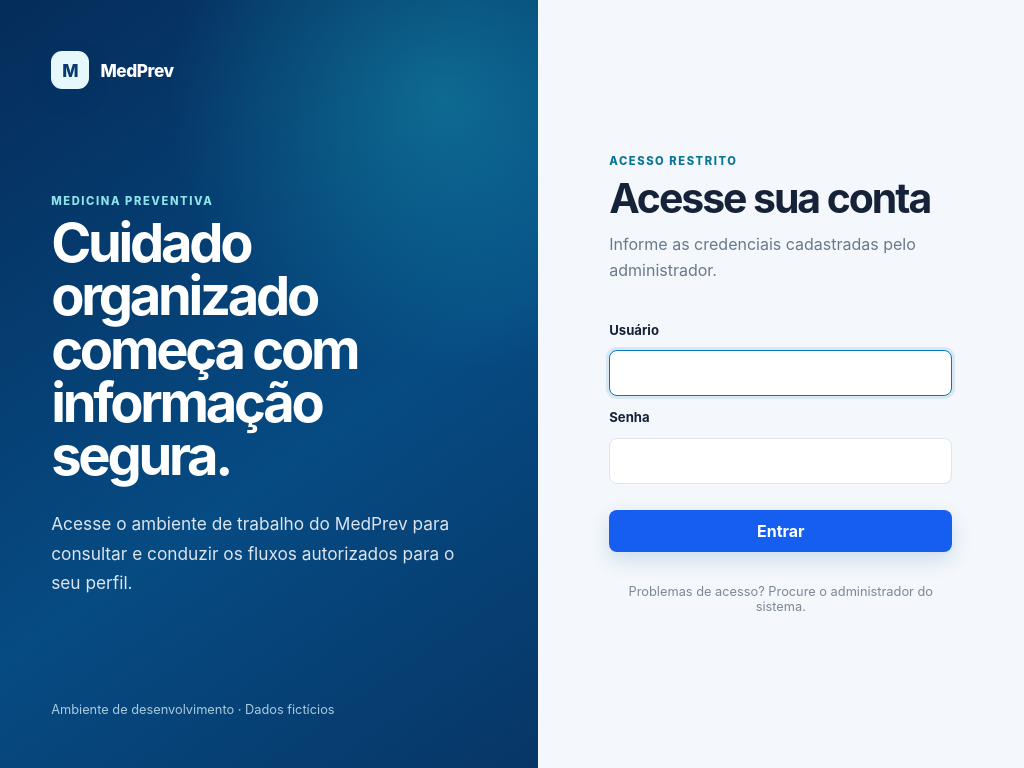
Scenario: App › informa quando as credenciais são inválidas
This screenshot has width=1024, height=768.
Type "incorreto" into the field labelled "Usuário" at (781, 374), box [609,350,952,396]
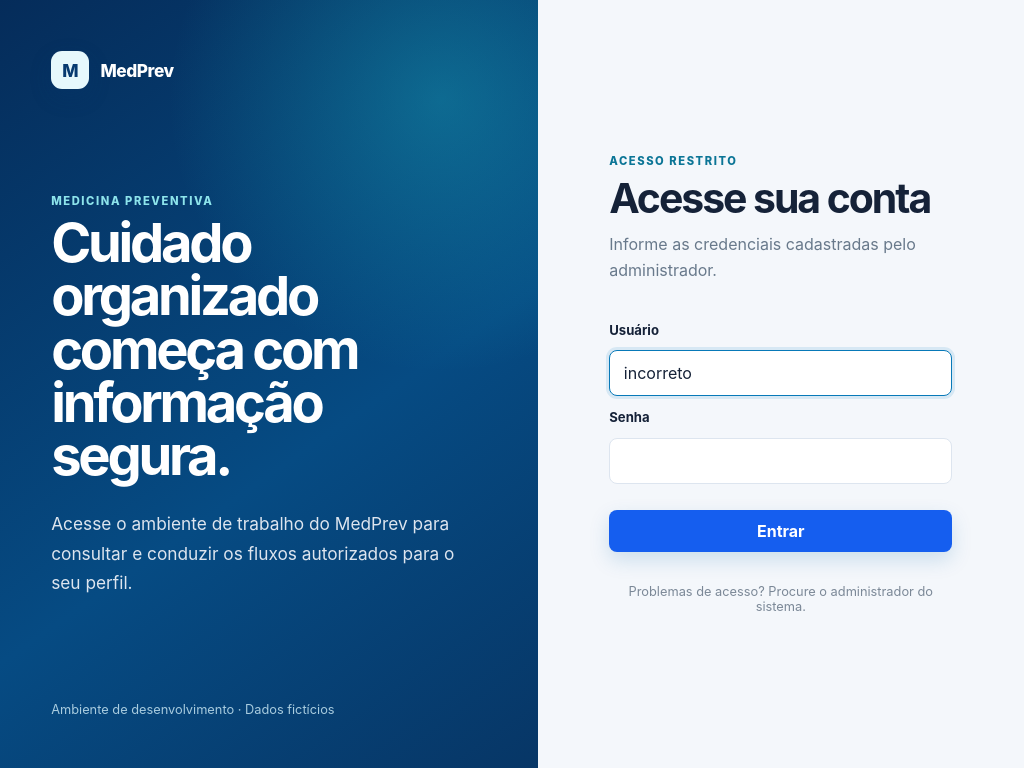
Type "incorreta" into the password field labelled "Senha" at (781, 461), box [609,438,952,484]
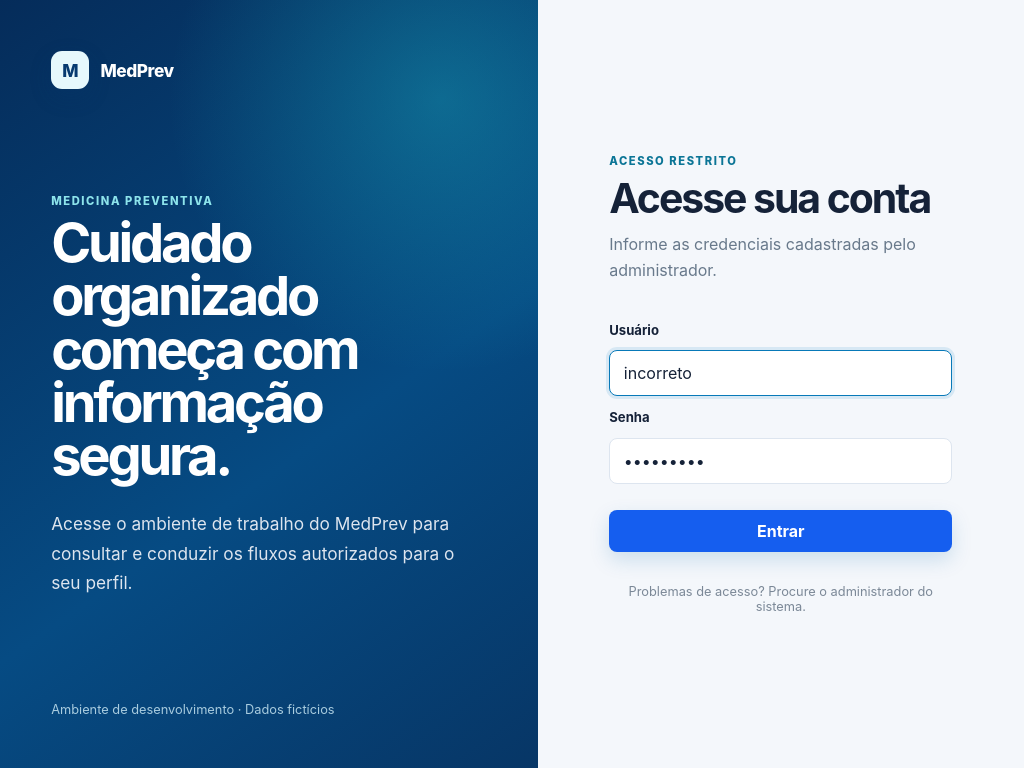
Click the button "Entrar" at (781, 531), box [609,510,952,552]
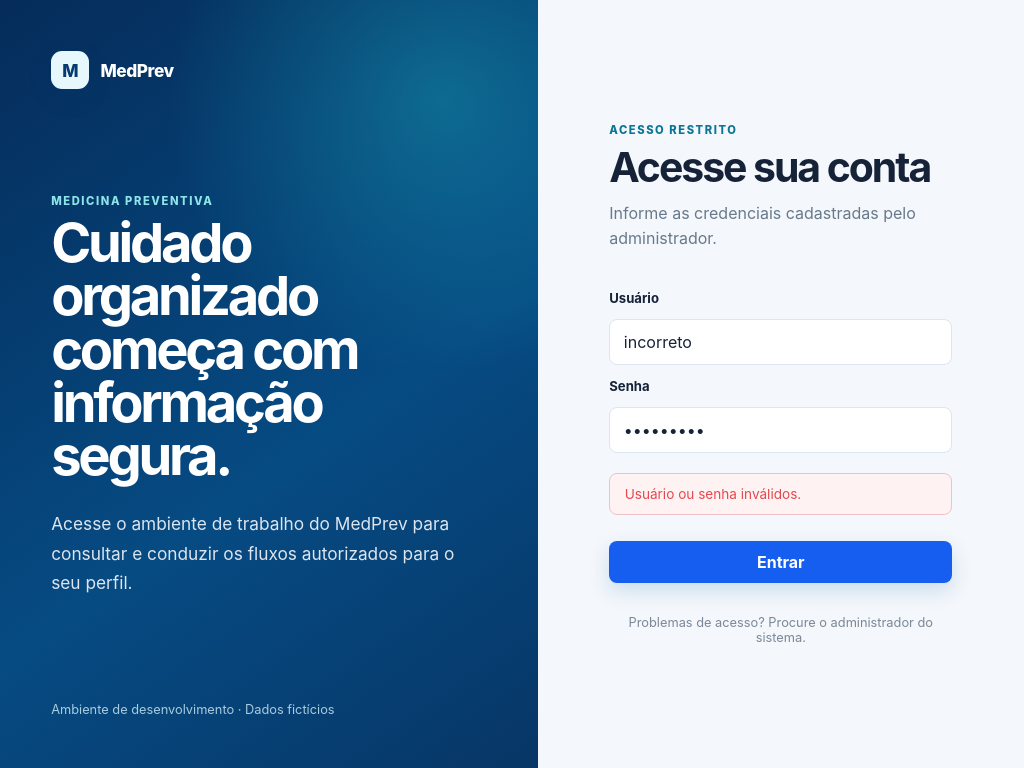
Check: the text "Usuário ou senha inválidos." is shown, box [609,474,952,516]
